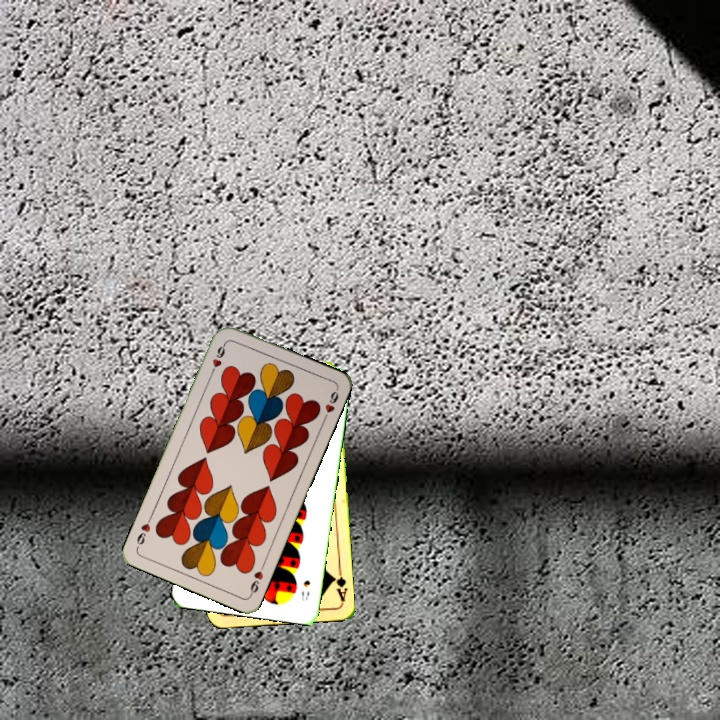GA: (329, 564, 349, 605)
H9: (206, 339, 229, 377), (246, 560, 268, 598)
S8: (297, 576, 313, 603)
